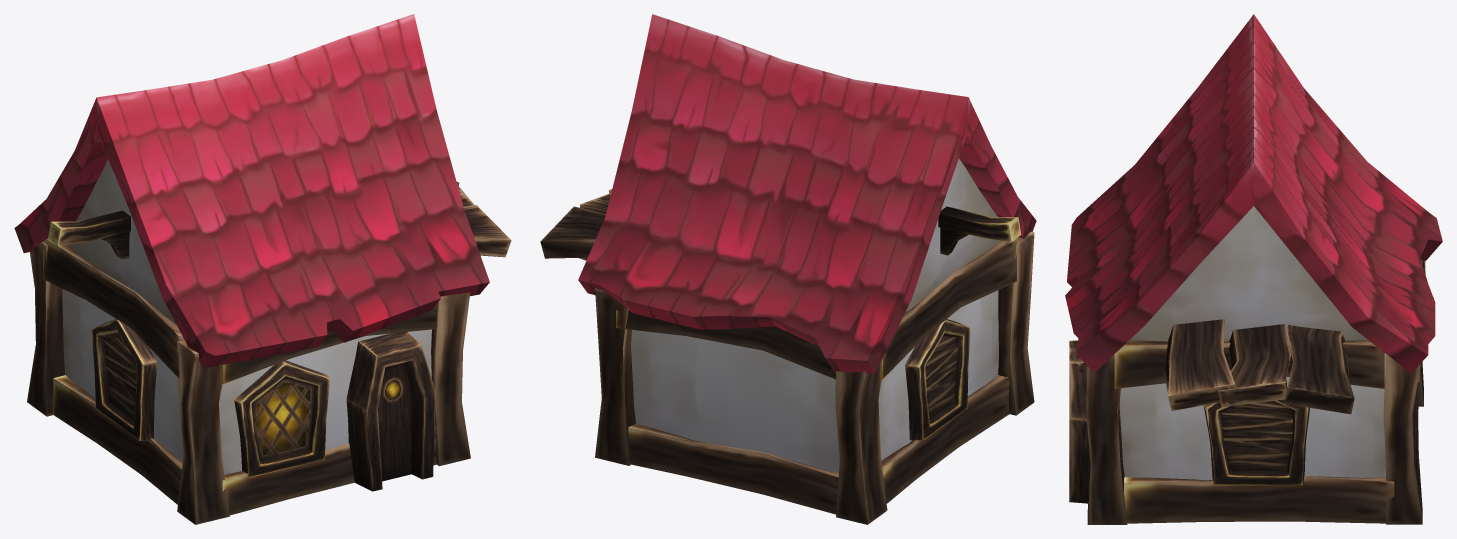
The model's file is Vampire_Village_Building_02.FBX.
3 renders of one model, left to right at view 1: azimuth 30°, elevation 25°; view 2: azimuth 150°, elevation 25°; view 3: azimuth 270°, elevation 25°, orthographic.
Visible parts, largest first — view 1: Vampire_Village_Building_02; view 2: Vampire_Village_Building_02; view 3: Vampire_Village_Building_02.
Part boxes in pixels (bbox=[...]): Vampire_Village_Building_02: bbox=[14, 14, 511, 524]; Vampire_Village_Building_02: bbox=[540, 14, 1036, 524]; Vampire_Village_Building_02: bbox=[1065, 14, 1442, 524].
Size of the model in its own units: 647 by 548 by 500.
